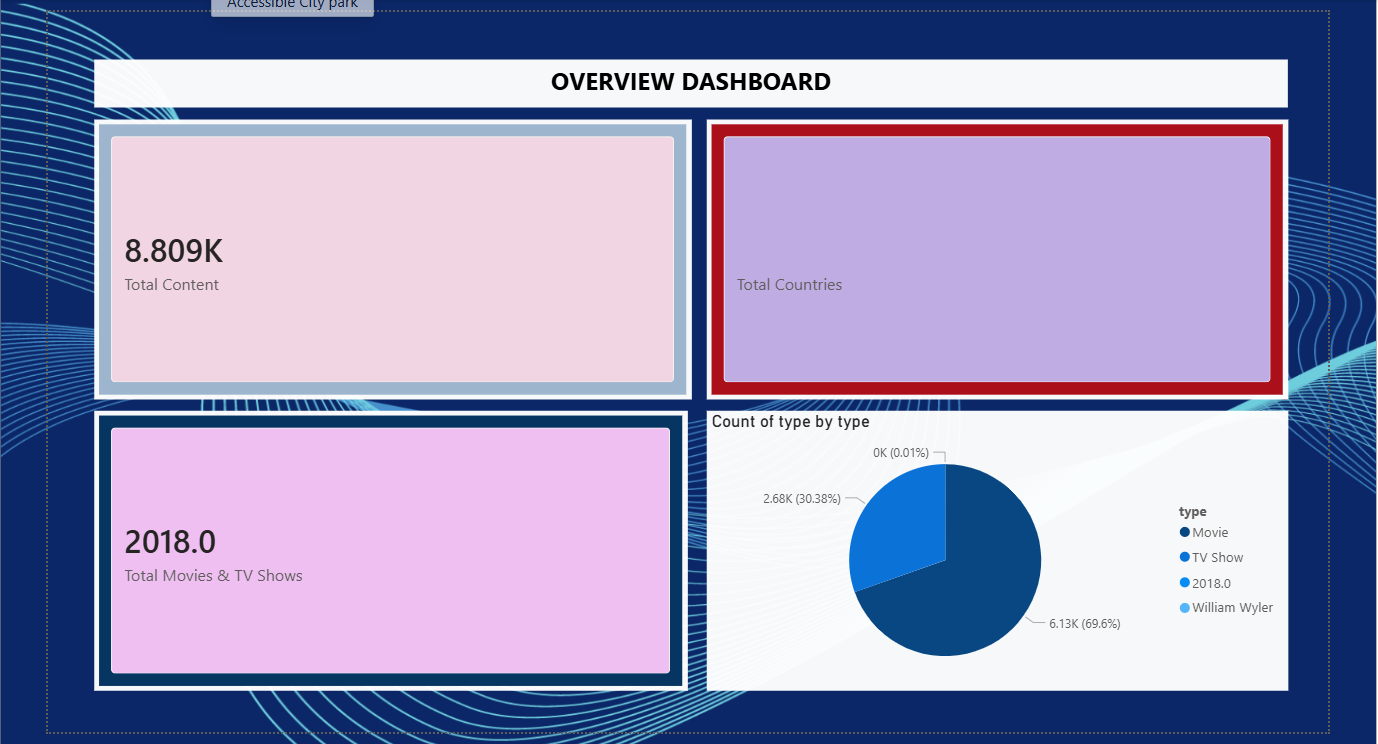

Layout of this report page (visuals, bound fields, positions):
{"tool":"powerbi","page":{"name":"Page 1","canvas":[1280,720],"ordinal":0},"visuals":[{"type":"cardVisual","fields":{"Data":["CountNonNull(netflix_cleaned.title)"]},"box":[46.2,107.5,597.5,280],"z":0},{"type":"cardVisual","fields":{"Data":["Min(netflix_cleaned.type)"]},"box":[46.2,398.8,593.8,280],"z":1000},{"type":"cardVisual","fields":{"Data":["Min(netflix_cleaned.country)"]},"box":[658.8,107.5,581.2,280],"z":2000},{"type":"pieChart","fields":{"Y":["CountNonNull(netflix_cleaned.type)"],"Category":["netflix_cleaned.type"]},"box":[658.8,398.8,581.2,280],"z":3000},{"type":"textbox","box":[46.5,47.7,1193.5,47.7],"z":4000}]}

Visuals, with their boxes on the page's 1280x720 design canvas (x1, y1, x2, y2). These are canvas units, not pixel positions in the 1378x744 screenshot, which may show the page scaled, cropped or inside an application window:
cardVisual - CountNonNull(netflix_cleaned.title): detection(46, 108, 644, 388)
cardVisual - Min(netflix_cleaned.type): detection(46, 399, 640, 679)
cardVisual - Min(netflix_cleaned.country): detection(659, 108, 1240, 388)
pieChart - CountNonNull(netflix_cleaned.type) x netflix_cleaned.type: detection(659, 399, 1240, 679)
textbox: detection(46, 48, 1240, 95)
